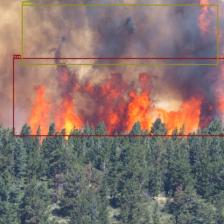fire: (12, 58, 224, 136)
smoke: (21, 4, 218, 65)
